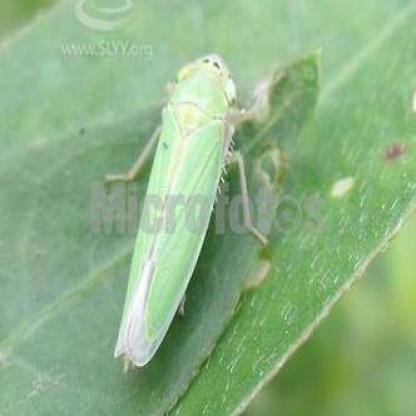Green-Leafhopper: (109, 50, 269, 375)
